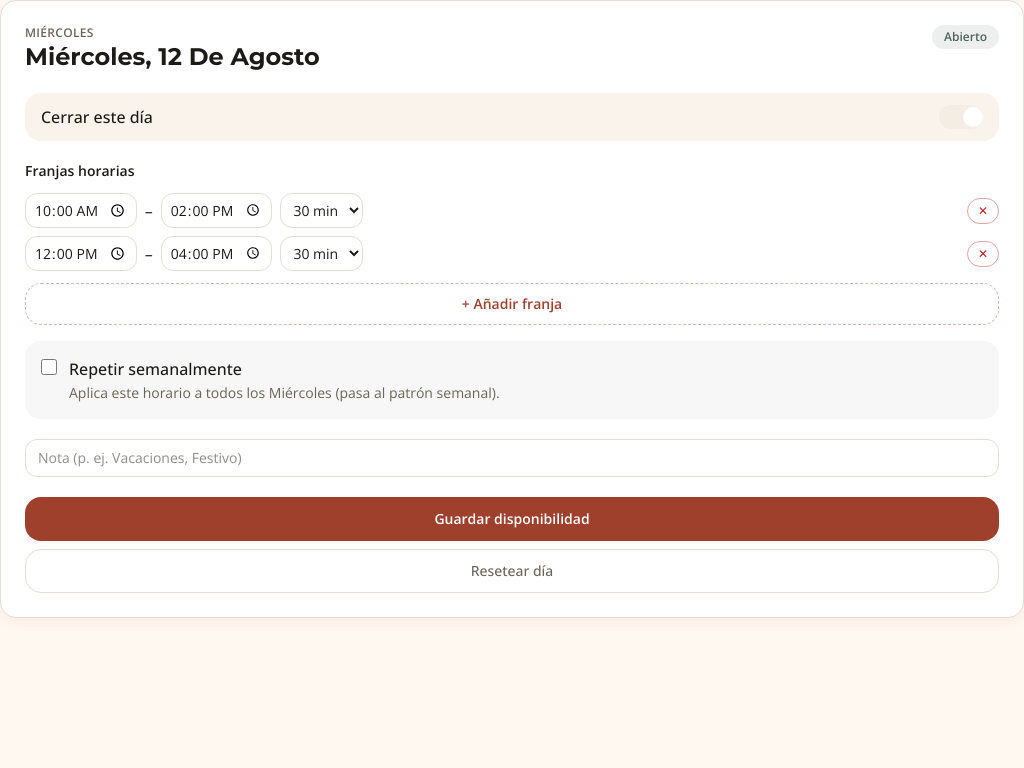
Test: PanelDiaEditor › bloquea el guardado si dos franjas se solapan
Click the button "Guardar disponibilidad".
click(512, 519)  # box [25,497,999,541]
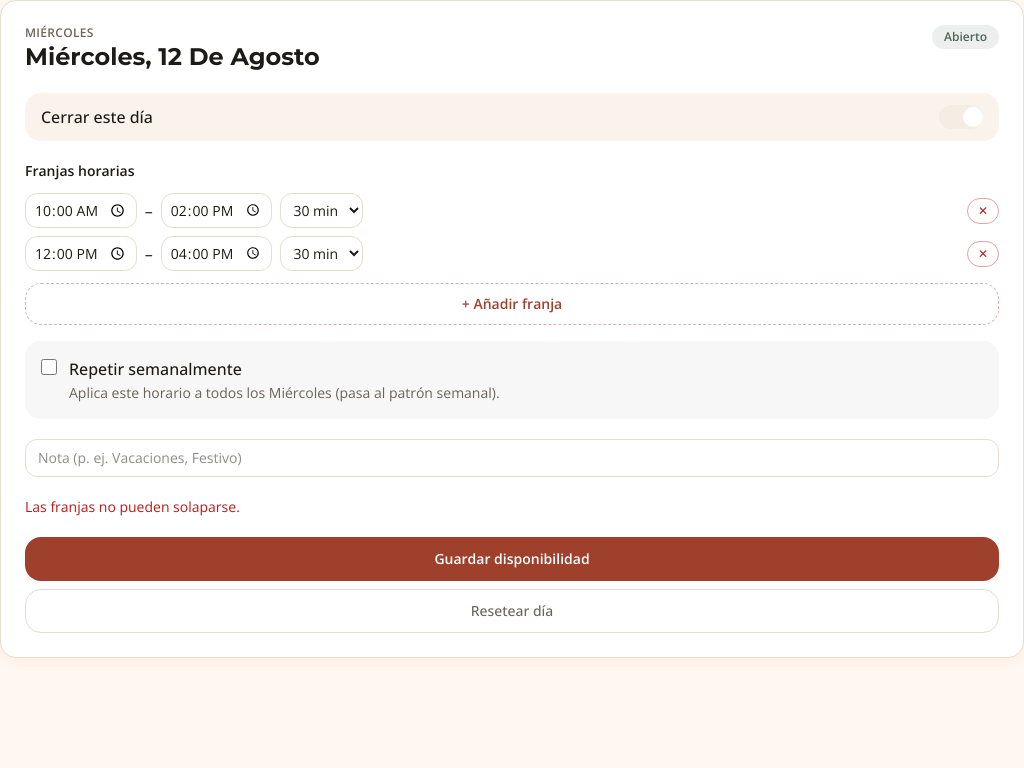
Result: the text "Las franjas no pueden solaparse." is shown at [25,497,240,516]
